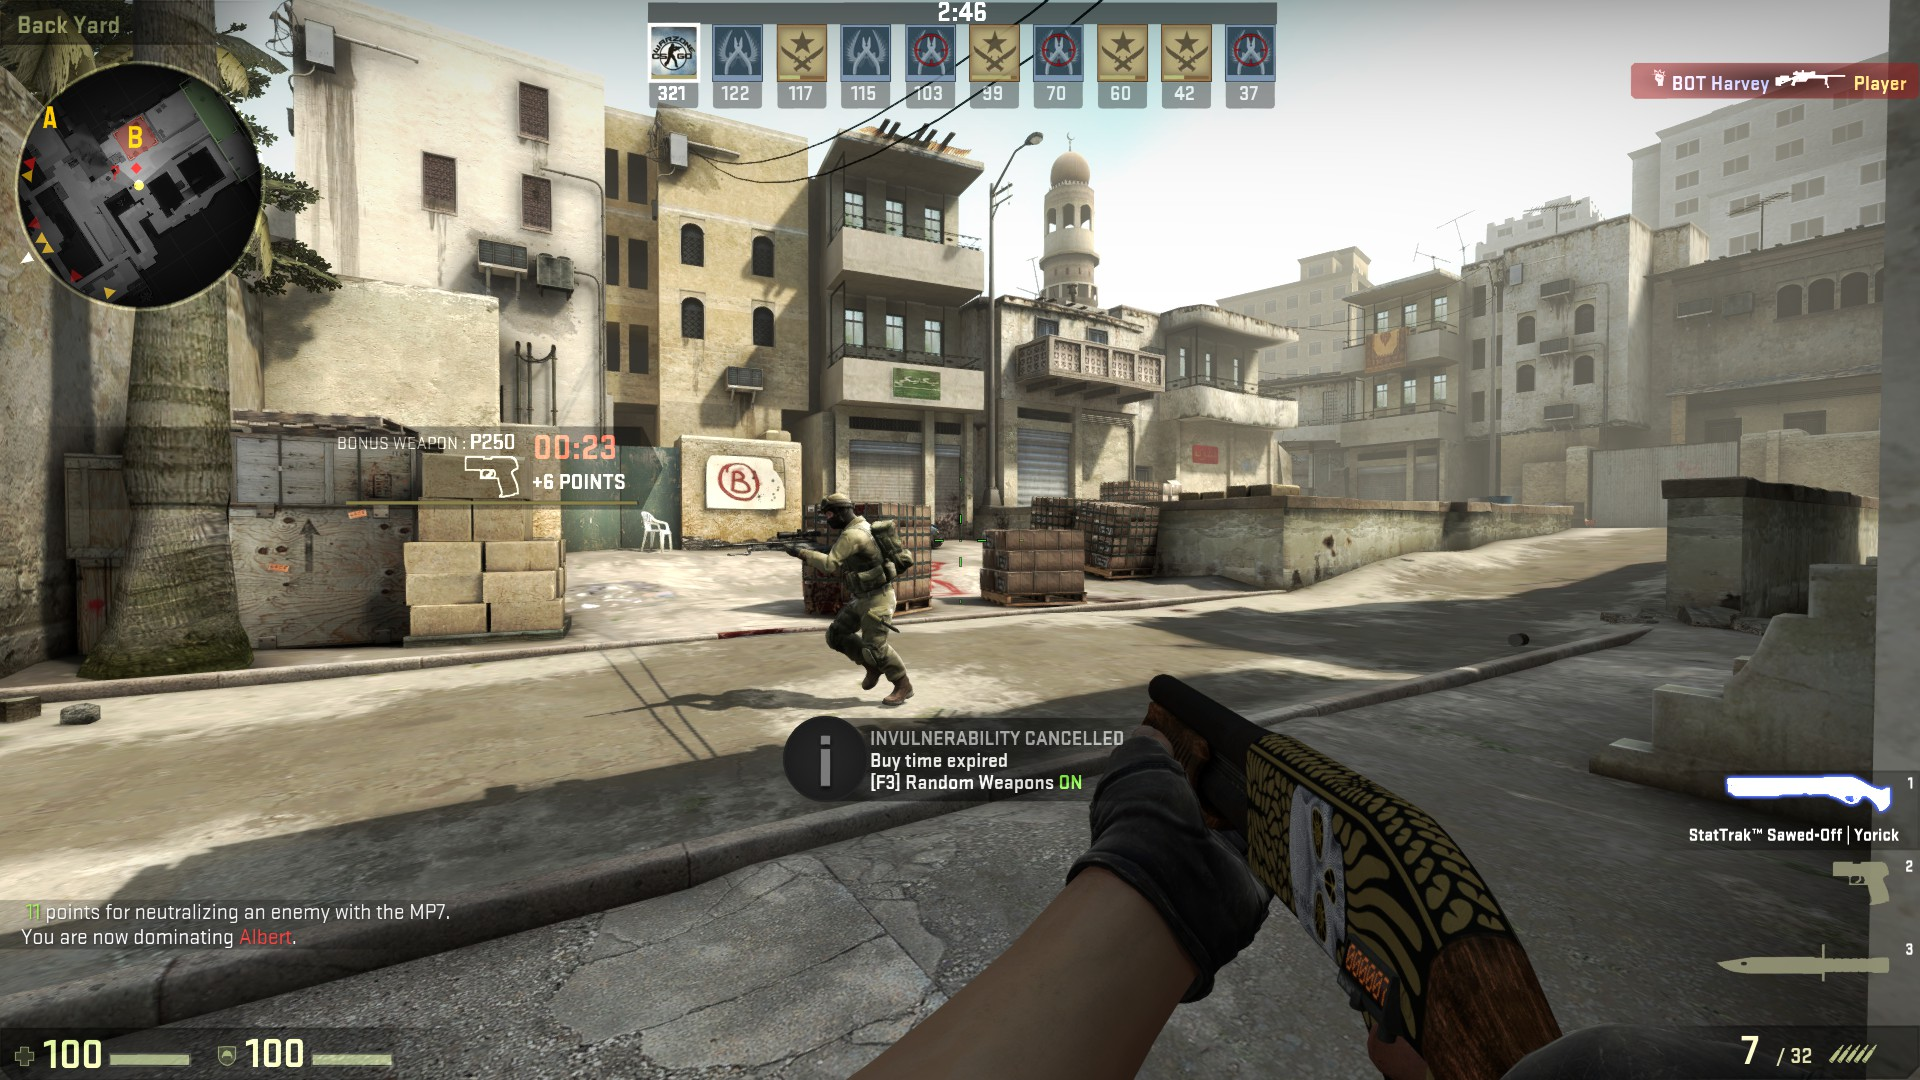c: (804, 491, 913, 699)
ch: (818, 491, 858, 531)
